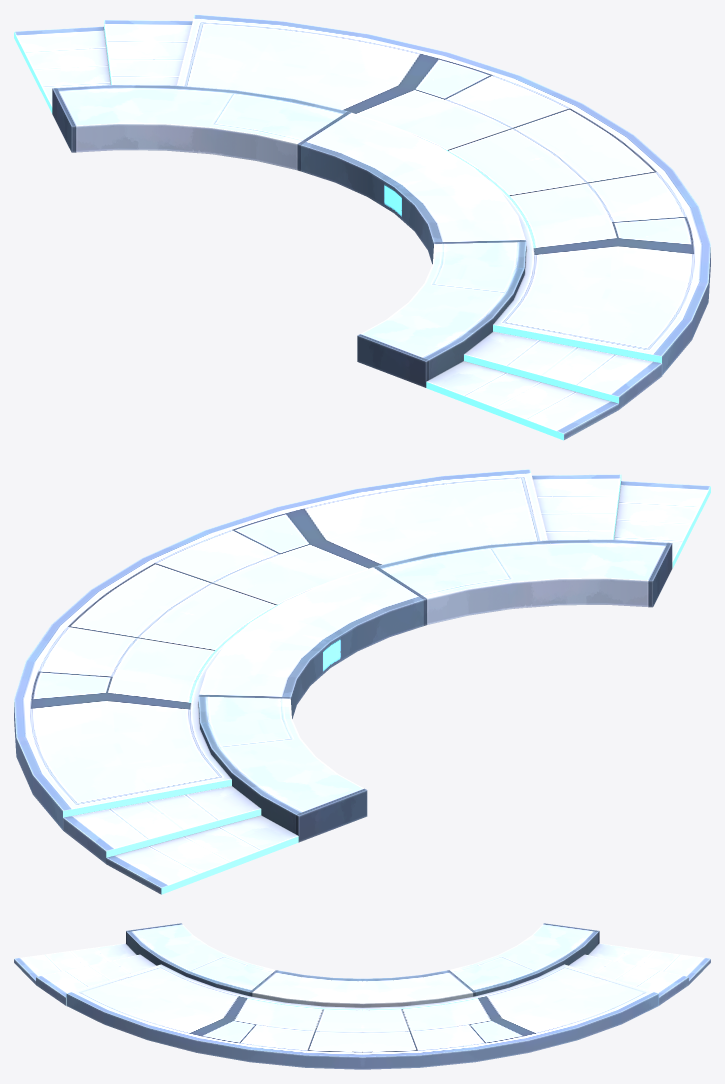
The model's file is obj_stairs.gltf.
3 views of the same model, one above another, from view 1: azimuth 30°, elevation 25°; view 2: azimuth 150°, elevation 25°; view 3: azimuth 270°, elevation 25° (orthographic). The views are drawn at different scales.
Visible parts, largest first — view 1: obj_stairs; view 2: obj_stairs; view 3: obj_stairs.
Part boxes in pixels (x1,y1,x2,y2): obj_stairs: (14,14,710,440); obj_stairs: (14,469,710,894); obj_stairs: (14,923,710,1069).
Size of what is drawn, in the model's own units: 13.15 by 0.787 by 29.83.
4 materials, 4 textured.
